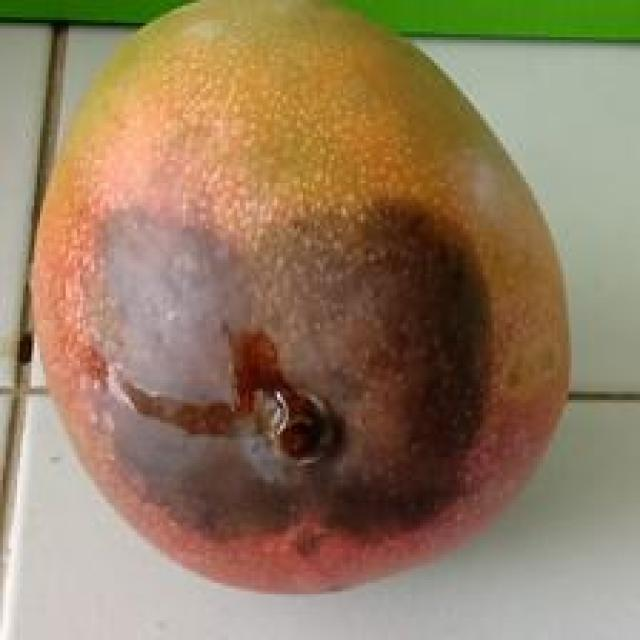Bad_Mango: (35, 1, 566, 592)
